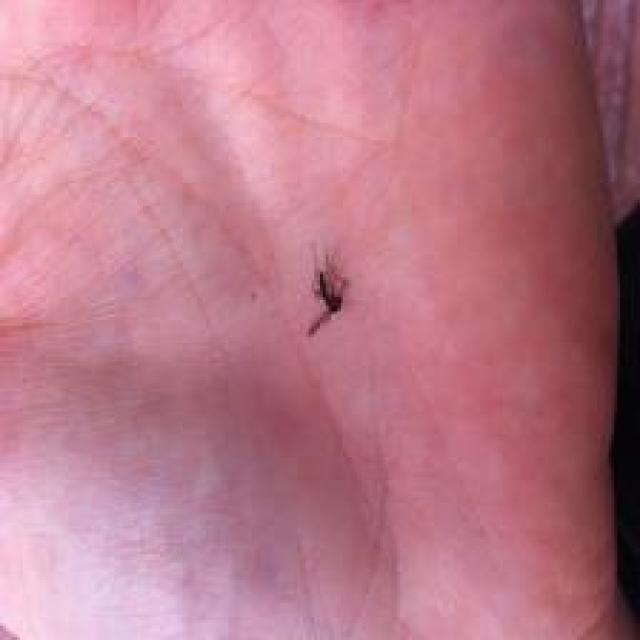Aedes albopictus: (306, 252, 348, 337)
